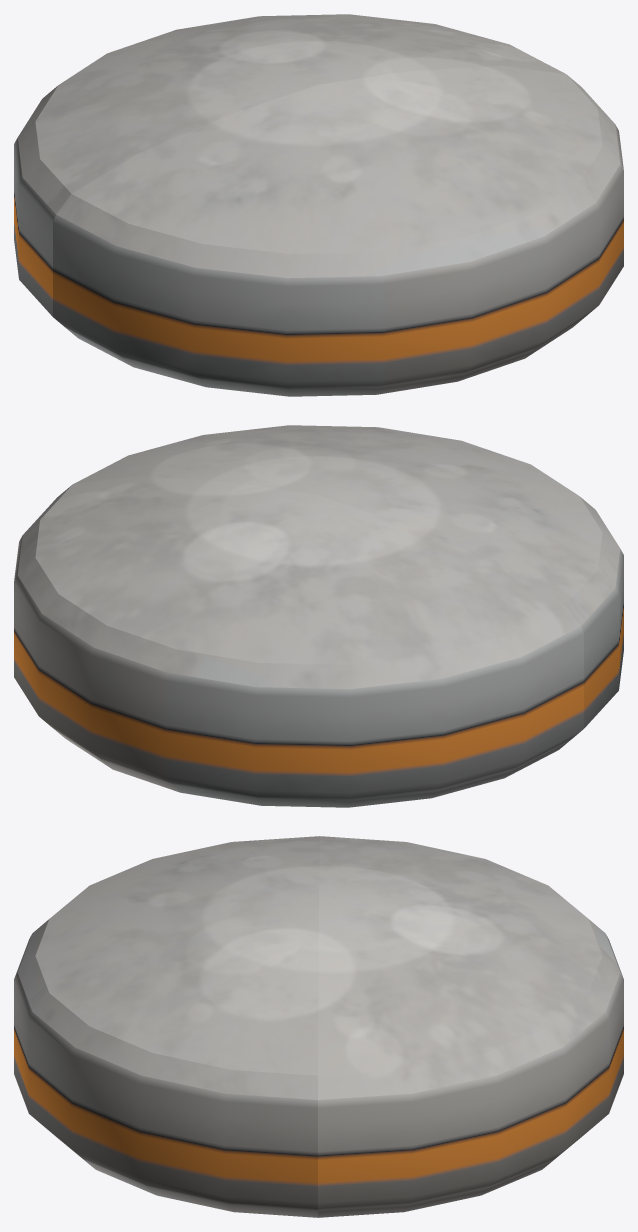
Rendered from BasePod_EXP_1.fbx.
The picture shows the model from 3 angles, top to bottom: view 1: azimuth 30°, elevation 25°; view 2: azimuth 150°, elevation 25°; view 3: azimuth 270°, elevation 25°; orthographic projection.
Parts seen in each view (by area): view 1: Pod_EXP_1; view 2: Pod_EXP_1; view 3: Pod_EXP_1.
Part boxes in pixels (x1=…): Pod_EXP_1: x1=14, y1=14, x2=623, y2=396; Pod_EXP_1: x1=14, y1=425, x2=623, y2=807; Pod_EXP_1: x1=14, y1=836, x2=623, y2=1217.
Bounding box in the file's own units: 38.02 × 13.38 × 38.02.
